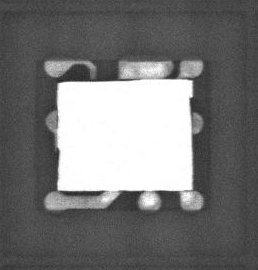DIE_BROKEN: (55, 146, 61, 168), (188, 95, 194, 114)
